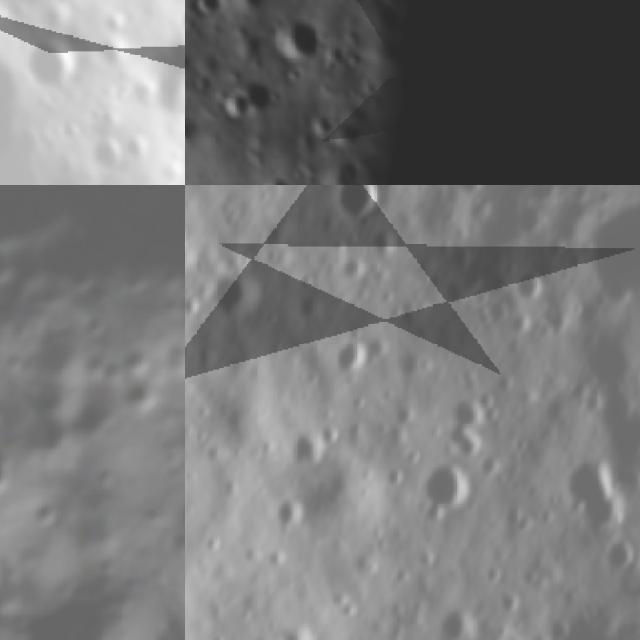crater: (0, 561, 141, 640), (544, 444, 640, 543), (560, 231, 640, 326), (421, 379, 505, 468), (398, 449, 485, 533), (194, 260, 272, 342), (12, 318, 90, 396), (572, 324, 640, 402), (19, 34, 86, 98), (60, 386, 123, 453), (316, 185, 390, 235), (357, 219, 413, 280), (320, 328, 375, 388), (588, 527, 640, 588), (275, 421, 331, 475), (273, 8, 327, 61), (258, 492, 311, 546), (427, 595, 487, 640), (122, 370, 168, 416), (85, 133, 132, 177), (473, 294, 517, 339), (507, 269, 550, 313), (117, 344, 158, 386), (242, 72, 282, 113), (62, 260, 102, 300), (214, 83, 256, 120), (263, 615, 323, 640), (372, 458, 409, 495), (382, 396, 418, 434), (26, 496, 62, 532), (185, 213, 197, 279), (185, 109, 205, 141), (190, 0, 228, 16), (263, 169, 299, 185), (236, 0, 274, 10)
